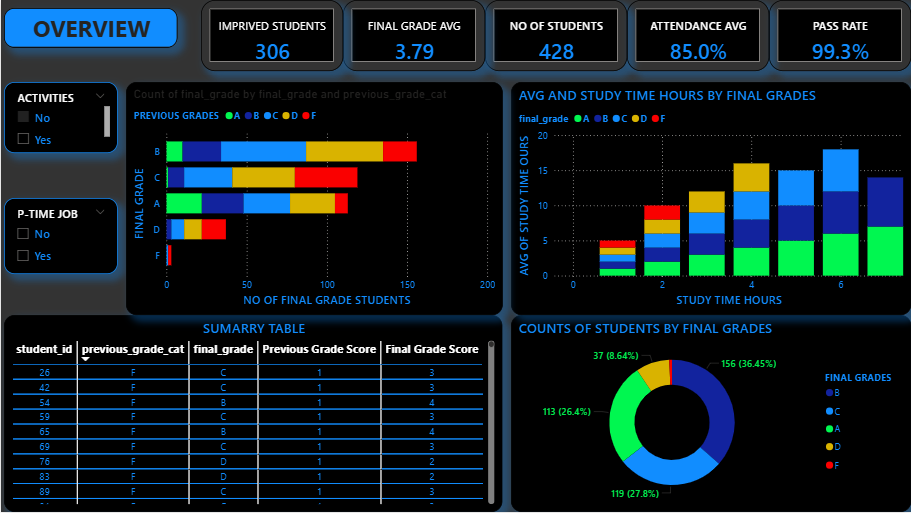

The dashboard page shown, as its layout file describes it:
{"tool":"powerbi","page":{"name":"STUDENTS PERFORMANCE","canvas":[1280,720],"ordinal":0},"visuals":[{"type":"cardVisual","fields":{"Data":["cleaned_students.NO OF STUDENTS"]},"box":[680.8,0,199.7,99.9],"z":0},{"type":"cardVisual","fields":{"Data":["cleaned_students.ATTENDANCE AVG"]},"box":[880.5,0,199.7,99.9],"z":1000},{"type":"cardVisual","fields":{"Data":["cleaned_students.Pass Rate"]},"box":[1080.3,0,199.7,99.9],"z":2000},{"type":"textbox","title":"OVERVIEW","box":[4.3,11.4,244.3,55.7],"z":3000},{"type":"slicer","fields":{"Values":["cleaned_students.extracurricular_activities"]},"box":[4.3,115.7,160,100],"z":6000},{"type":"slicer","fields":{"Values":["cleaned_students.part_time_job"]},"box":[4.3,278.6,160,107.1],"z":7000},{"type":"cardVisual","fields":{"Data":["cleaned_students.FINAL GRADE AVG"]},"box":[481.1,0,199.7,99.9],"z":9000},{"type":"cardVisual","fields":{"Data":["cleaned_students.Improved Students"]},"box":[281.3,0,199.7,99.9],"z":10000},{"type":"tableEx","title":"SUMARRY TABLE","fields":{"Values":["cleaned_students.student_id","cleaned_students.previous_grade_cat","cleaned_students.final_grade","cleaned_students.Previous Grade Score","cleaned_students.Final Grade Score"]},"box":[4.3,442.9,701.4,277.1],"z":11000},{"type":"donutChart","title":"COUNTS OF STUDENTS BY FINAL GRADES","fields":{"Y":["CountNonNull(cleaned_students.student_id)"],"Category":["cleaned_students.final_grade"]},"box":[717.1,442.9,562.9,277.1],"z":11001},{"type":"columnChart","title":"AVG AND STUDY TIME HOURS BY FINAL GRADES","fields":{"Series":["cleaned_students.final_grade"],"Y":["Avg(cleaned_students.study_time_hours)"],"Category":["cleaned_students.study_time_hours"]},"box":[717.4,115.3,562.6,327.7],"z":11002},{"type":"barChart","fields":{"Series":["cleaned_students.previous_grade_cat"],"Category":["cleaned_students.final_grade"],"Y":["CountNonNull(cleaned_students.final_grade)"]},"box":[175.8,115.3,530.3,327.7],"z":11003}]}

Visuals, with their boxes in screenshot pixels (x1, y1, x2, y2), scaled from the page's 1280x720 canvas onto the 911x513 screenshot:
cardVisual - cleaned_students.NO OF STUDENTS: <box>485,0,627,71</box>
cardVisual - cleaned_students.ATTENDANCE AVG: <box>627,0,769,71</box>
cardVisual - cleaned_students.Pass Rate: <box>769,0,910,71</box>
"OVERVIEW" textbox: <box>3,8,177,48</box>
slicer - cleaned_students.extracurricular_activities: <box>3,82,117,154</box>
slicer - cleaned_students.part_time_job: <box>3,199,117,275</box>
cardVisual - cleaned_students.FINAL GRADE AVG: <box>342,0,485,71</box>
cardVisual - cleaned_students.Improved Students: <box>200,0,342,71</box>
"SUMARRY TABLE" tableEx: <box>3,316,502,512</box>
"COUNTS OF STUDENTS BY FINAL GRADES" donutChart: <box>510,316,910,512</box>
"AVG AND STUDY TIME HOURS BY FINAL GRADES" columnChart: <box>511,82,910,316</box>
barChart - cleaned_students.previous_grade_cat x cleaned_students.final_grade: <box>125,82,503,316</box>
